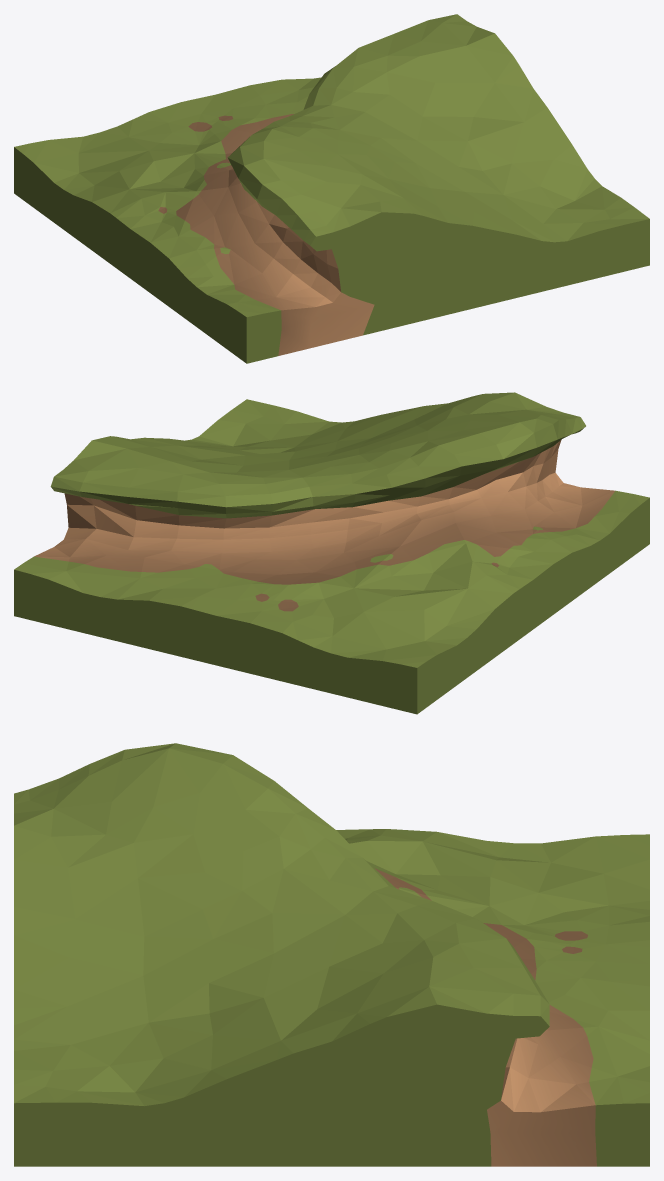
Rendered from Terrian_CliffGrass_Hill_Bend-01.fbx.
3 views of the same model, one above another, from view 1: azimuth 30°, elevation 25°; view 2: azimuth 150°, elevation 25°; view 3: azimuth 270°, elevation 25° (orthographic). The views are drawn at different scales.
Visible parts, largest first — view 1: Terrian_CliffGrass_Hill_Bend-01; view 2: Terrian_CliffGrass_Hill_Bend-01; view 3: Terrian_CliffGrass_Hill_Bend-01.
Boxes of the visible parts, <box> form: Terrian_CliffGrass_Hill_Bend-01: <box>14,14,649,363</box>; Terrian_CliffGrass_Hill_Bend-01: <box>14,392,649,714</box>; Terrian_CliffGrass_Hill_Bend-01: <box>14,743,649,1166</box>.
Size of the model in its own units: 3600 by 1241 by 3600.
1 material, 1 textured.
